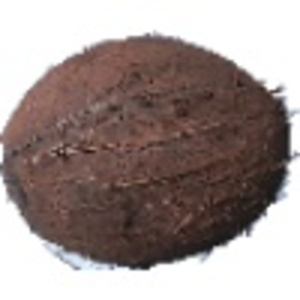coco: (1, 35, 300, 272)
